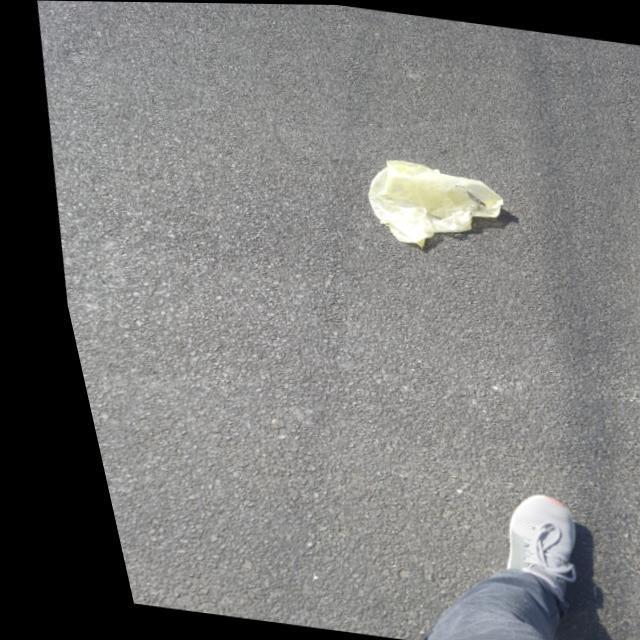Background: (39, 0, 640, 640)
Plastic_Bag: (39, 0, 640, 640), (359, 159, 494, 245)
